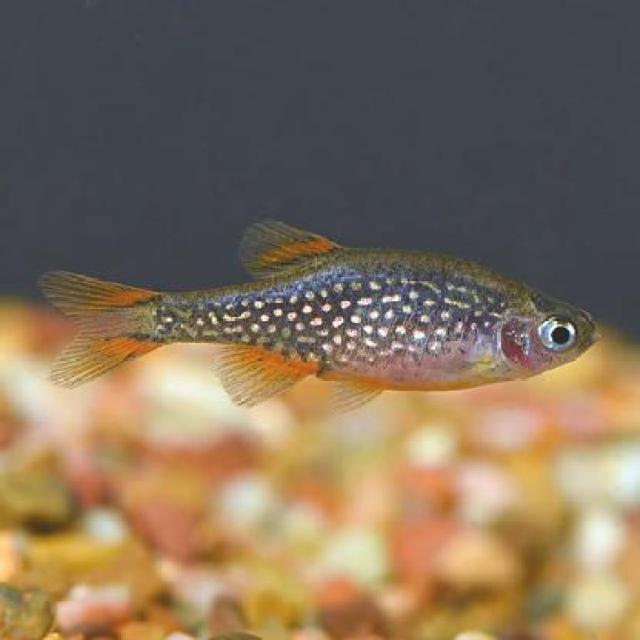ZebraFish: (31, 211, 600, 411)
